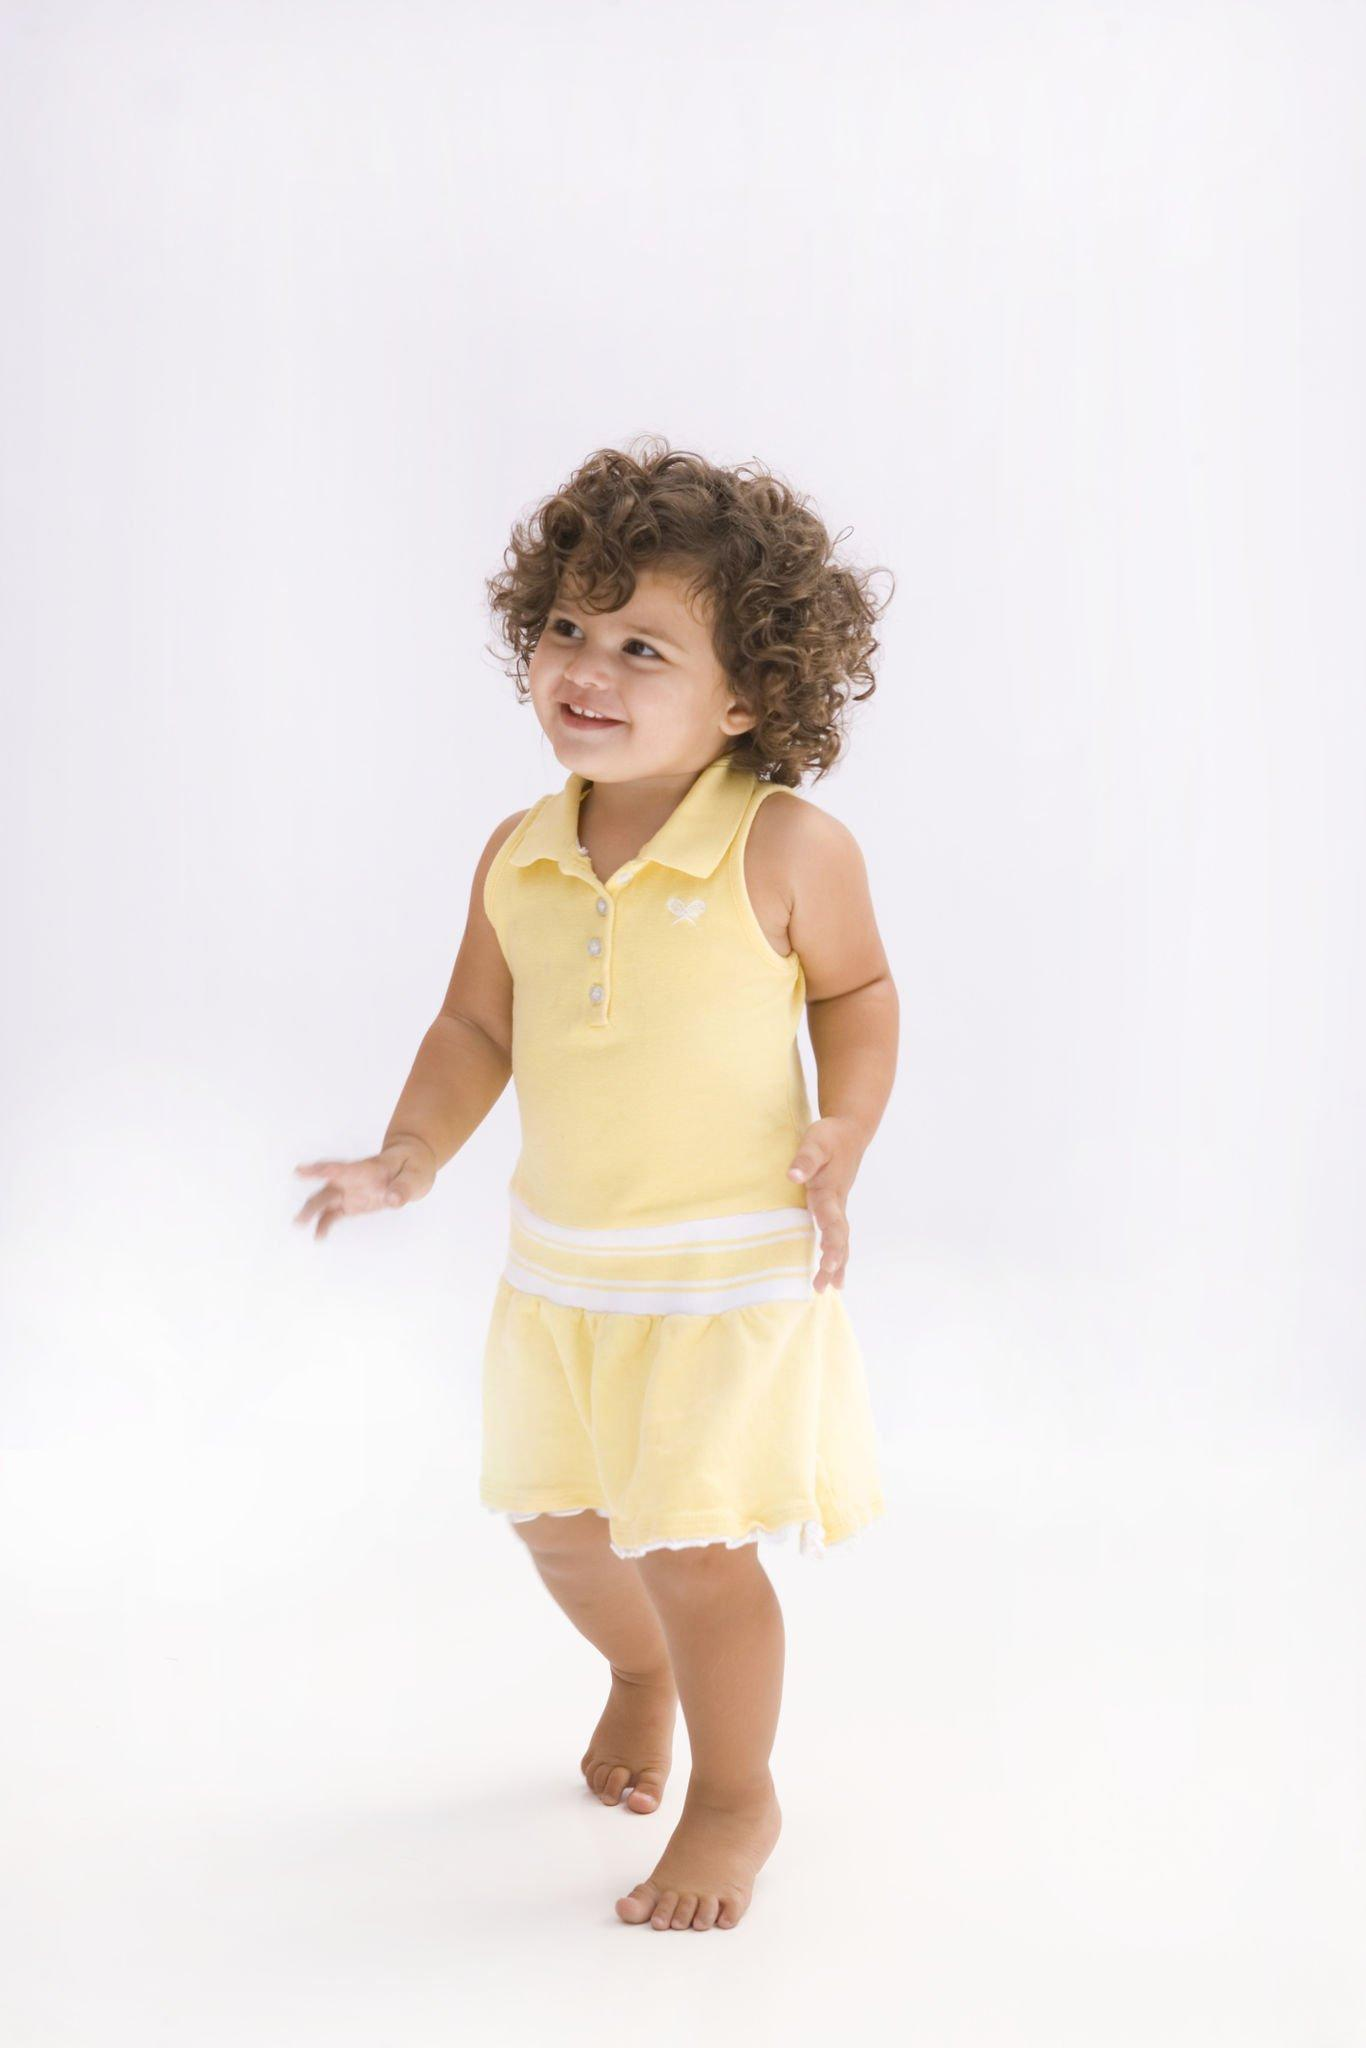Healthy: (462, 482, 813, 815)
